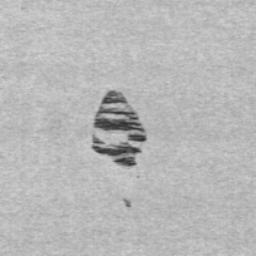Secondary rust skin: (91, 89, 148, 168)
